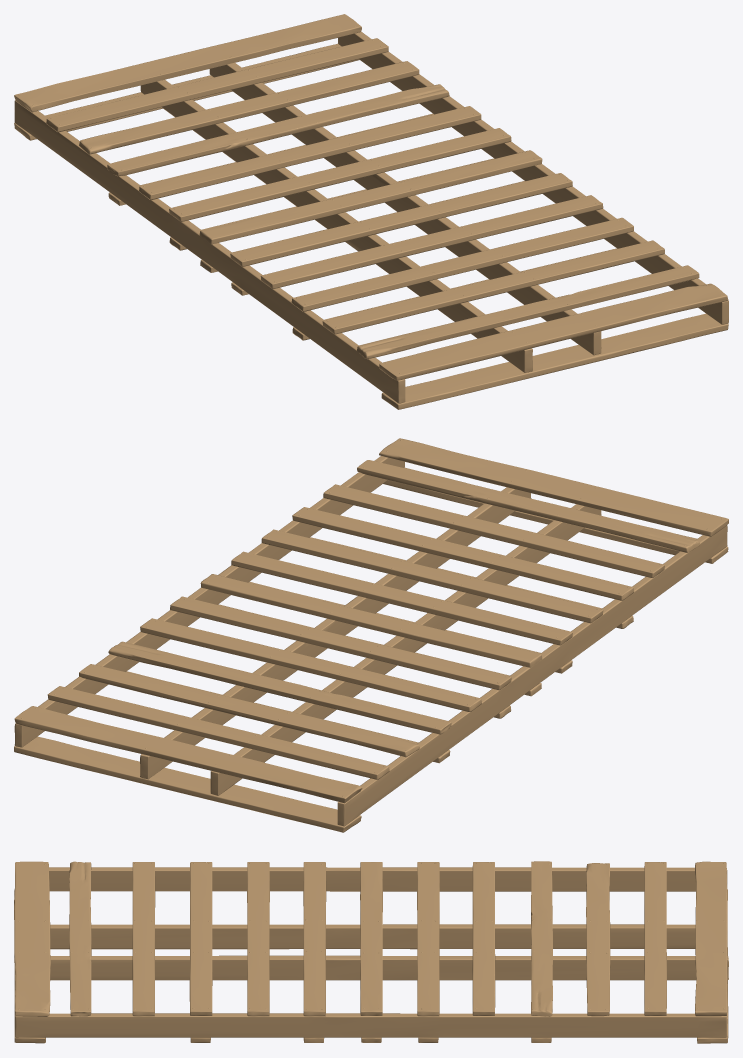
Rendered from pallet_drum_wood_recycled_a06.glb.
3 views of the same model, one above another, from view 1: azimuth 30°, elevation 25°; view 2: azimuth 150°, elevation 25°; view 3: azimuth 270°, elevation 25° (orthographic). The views are drawn at different scales.
Size of the model in its own units: 1.2 by 0.1212 by 2.4.
